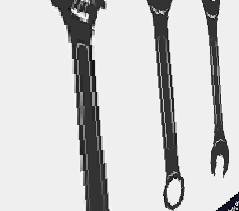Wrench: (193, 1, 232, 180)
